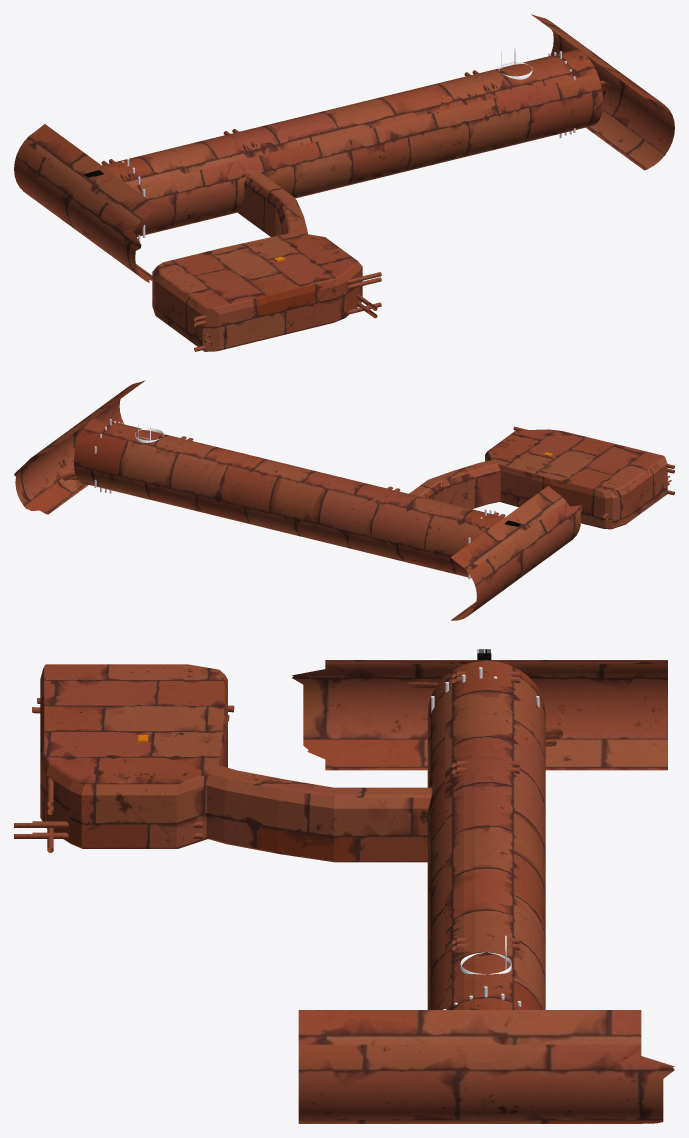
The model's file is Kanaliz.fbx.
3 views of the same model, one above another, from view 1: azimuth 30°, elevation 25°; view 2: azimuth 150°, elevation 25°; view 3: azimuth 270°, elevation 25° (orthographic). The views are drawn at different scales.
Visible parts, largest first — view 1: Kirpich.002, Kirpich.000; view 2: Kirpich.002, Kirpich.000; view 3: Kirpich.002, Kirpich.000.
Part boxes in pixels (x1,y1,x2,y2): Kirpich.002: (14,14,674,282); Kirpich.000: (152,171,381,351); Kirpich.002: (14,380,582,620); Kirpich.000: (409,426,674,529); Kirpich.002: (292,649,674,1123); Kirpich.000: (14,664,431,862).
Size of the model in its own units: 3192 by 510 by 2159.
